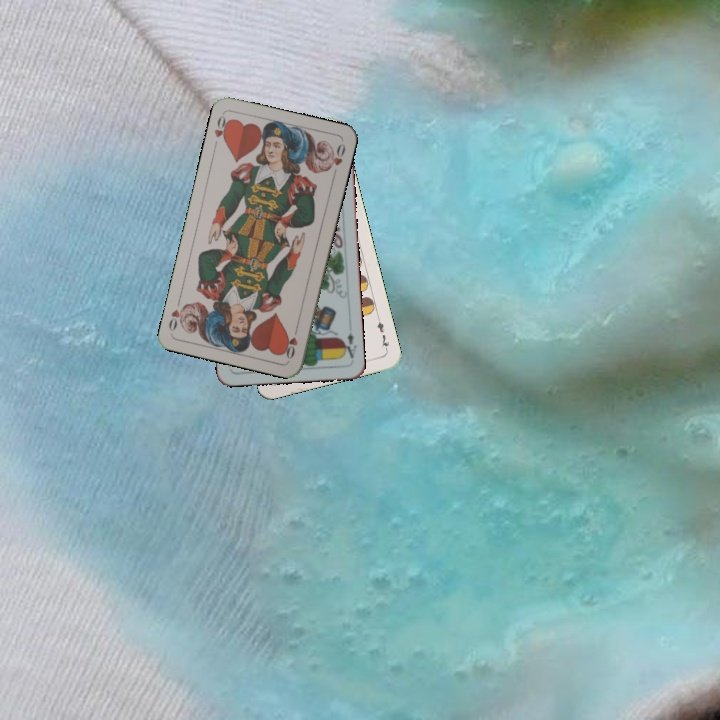E7: (373, 313, 392, 354)
EA: (339, 328, 359, 360)
HO: (281, 322, 301, 362), (210, 112, 233, 145)
